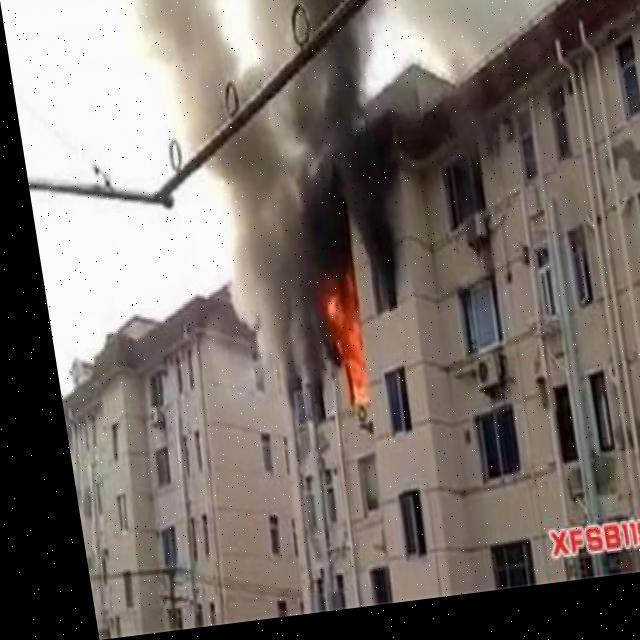Fire: (303, 266, 364, 416)
